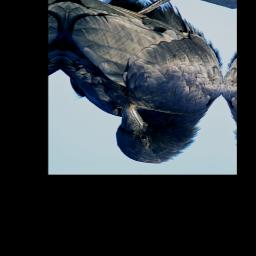Crow: (49, 0, 235, 169)
